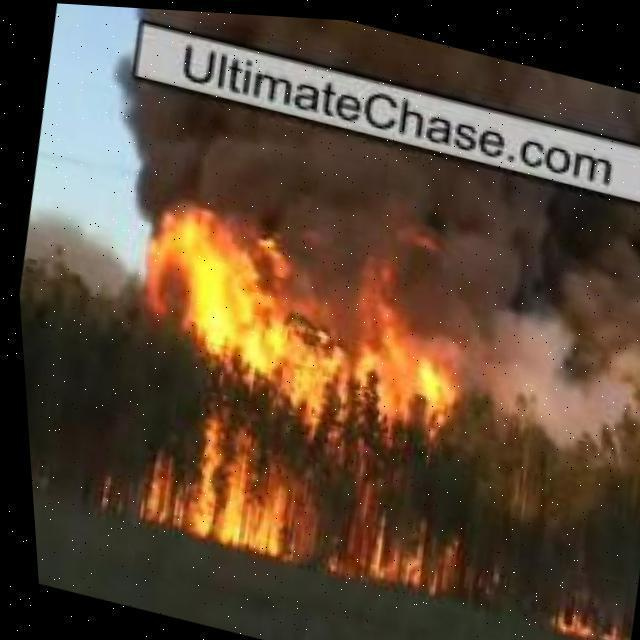fire: (151, 203, 333, 409), (145, 421, 321, 592), (363, 316, 461, 444), (362, 501, 465, 599), (544, 592, 625, 640)
